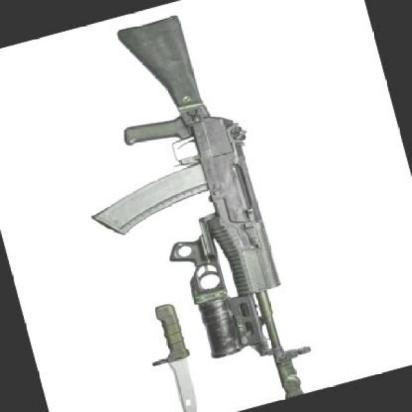Gun: (48, 0, 331, 412)
